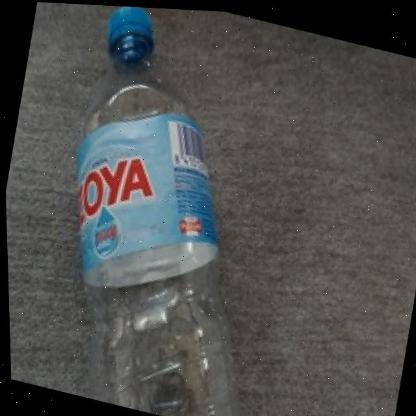Plastic Bottle: (74, 7, 236, 415)
